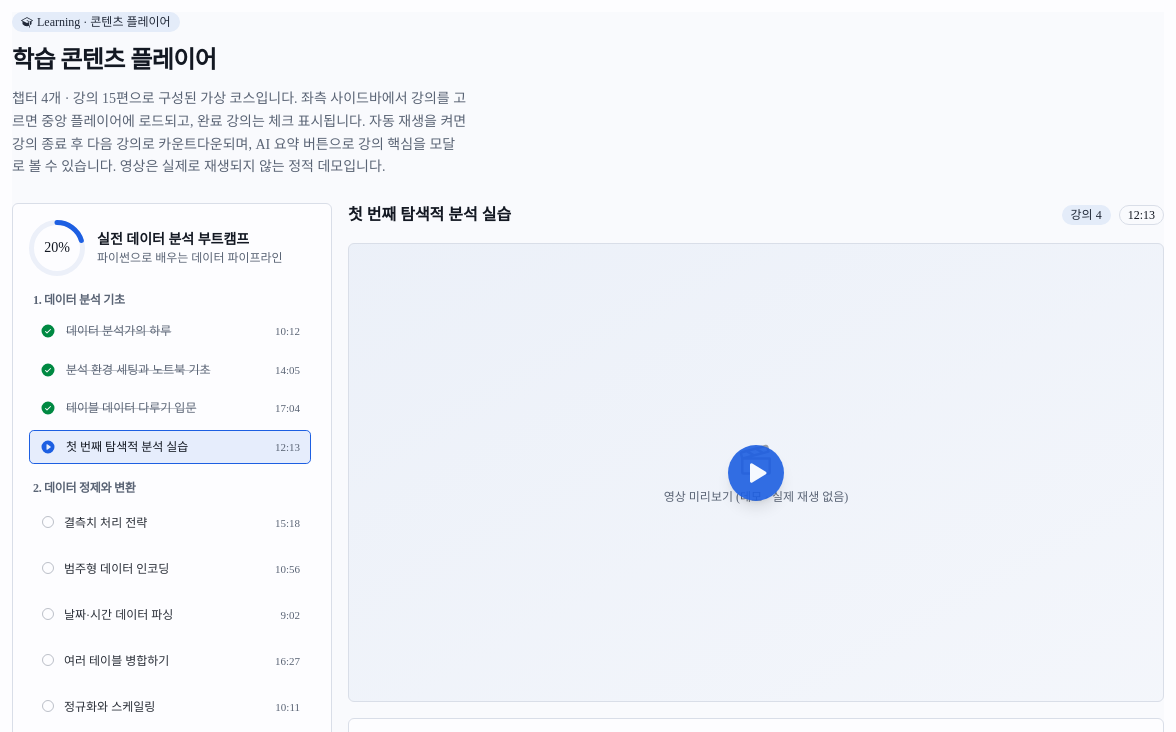
Scenario: ElearningPlayerPage › selecting a sidebar lesson swaps the player heading
The width and height of the screenshot is (1176, 732).
Click the button "결측치 처리 전략 15:18" at point(106, 523), box [29,502,311,544]
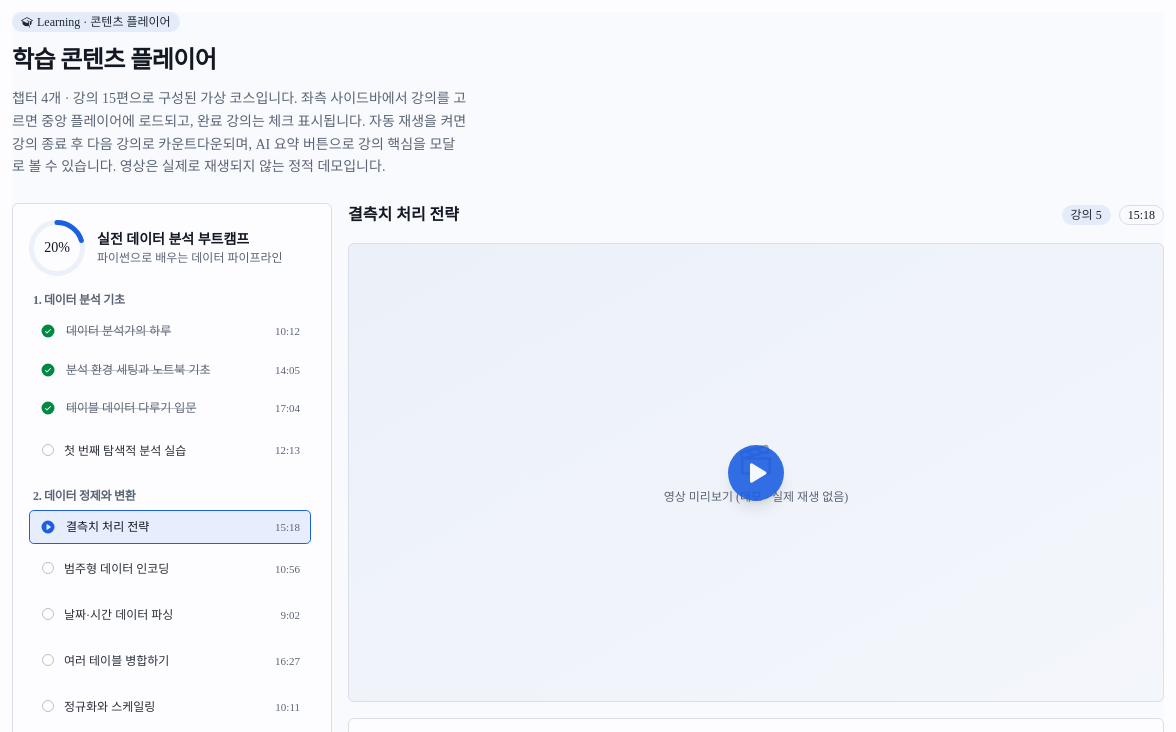
expect the heading "결측치 처리 전략" is shown: met, box [348,206,459,223]
